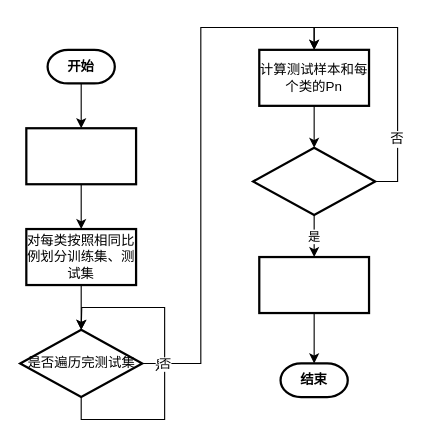
The diagram is 427 pixels wide and 448 high, and some of its shapes have lost their labels. The box of each missing label's shape, as (x1, y1, x2, y2) in pixels:
是否遍历完训练集: (251, 146, 376, 216)
选择最大Pn所对应的label作为预测结果: (258, 255, 370, 314)
随机生成多类二维正态分布样本: (25, 127, 137, 185)
